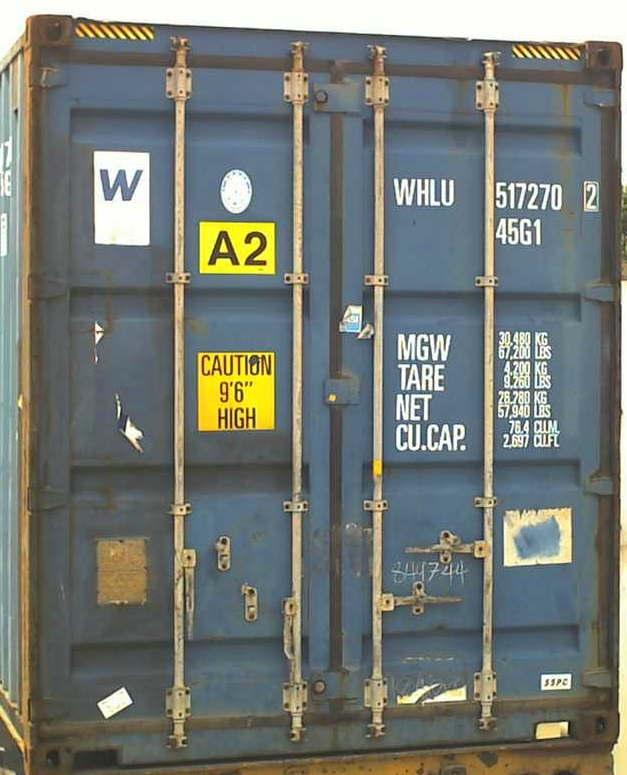container_door: (29, 11, 623, 769)
